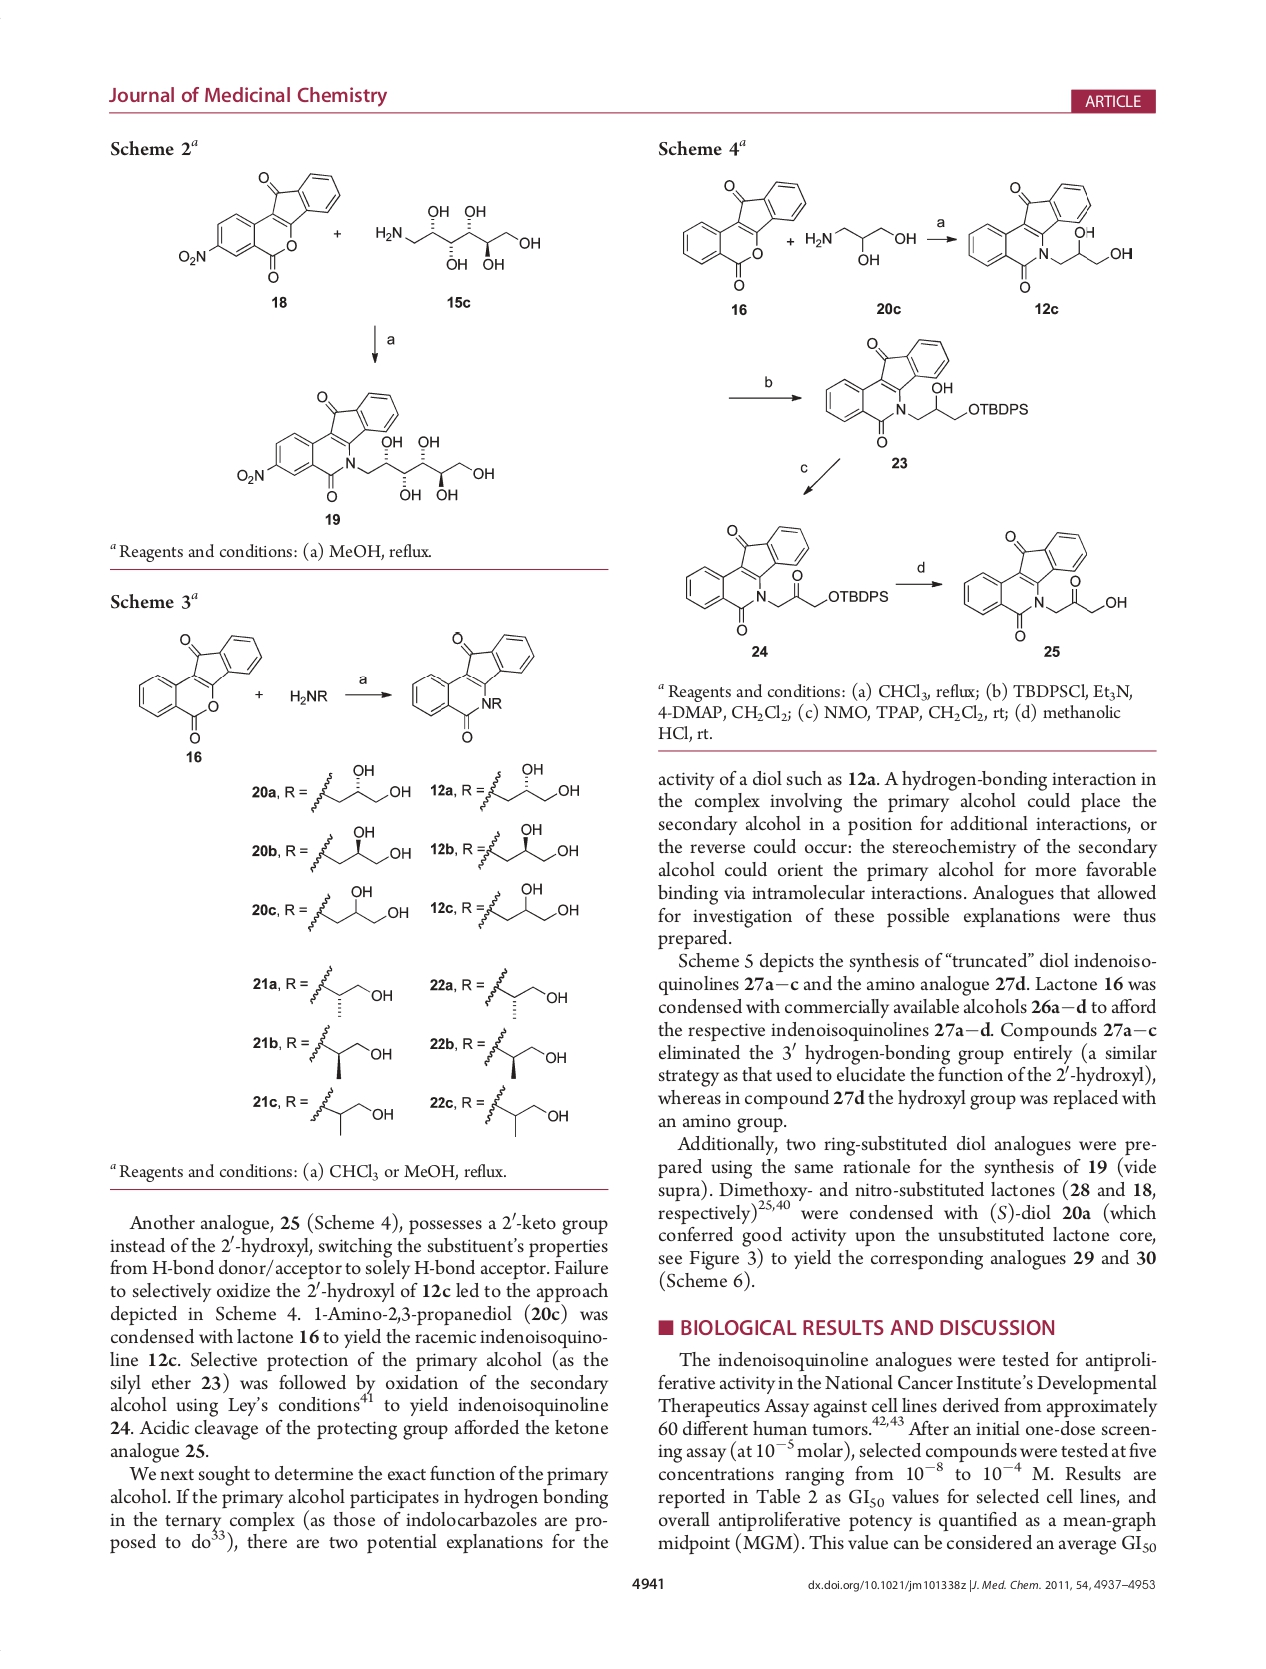exist_molecular: (231, 384, 500, 505), (674, 520, 890, 638), (817, 332, 1031, 449), (960, 523, 1130, 644), (961, 177, 1136, 294), (174, 166, 342, 287), (394, 624, 536, 750), (129, 625, 265, 746), (676, 173, 809, 291), (370, 198, 543, 277), (477, 757, 590, 818), (305, 882, 416, 936), (476, 817, 586, 871), (309, 759, 416, 814), (309, 821, 415, 875), (477, 879, 582, 931), (801, 222, 918, 267), (306, 1021, 396, 1079), (481, 963, 569, 1021), (481, 1083, 570, 1140), (309, 960, 394, 1020), (480, 1024, 570, 1080), (309, 1084, 398, 1137)
